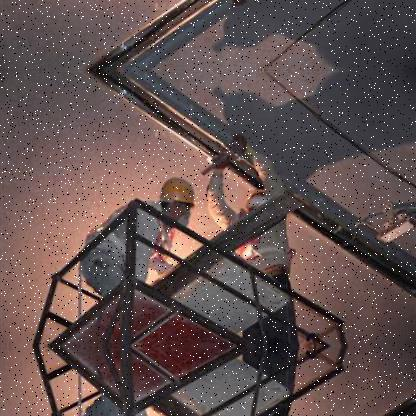Helmet: (158, 174, 202, 228)
